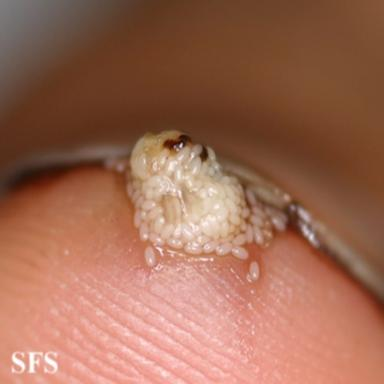Tungiasis: (115, 131, 292, 283)
